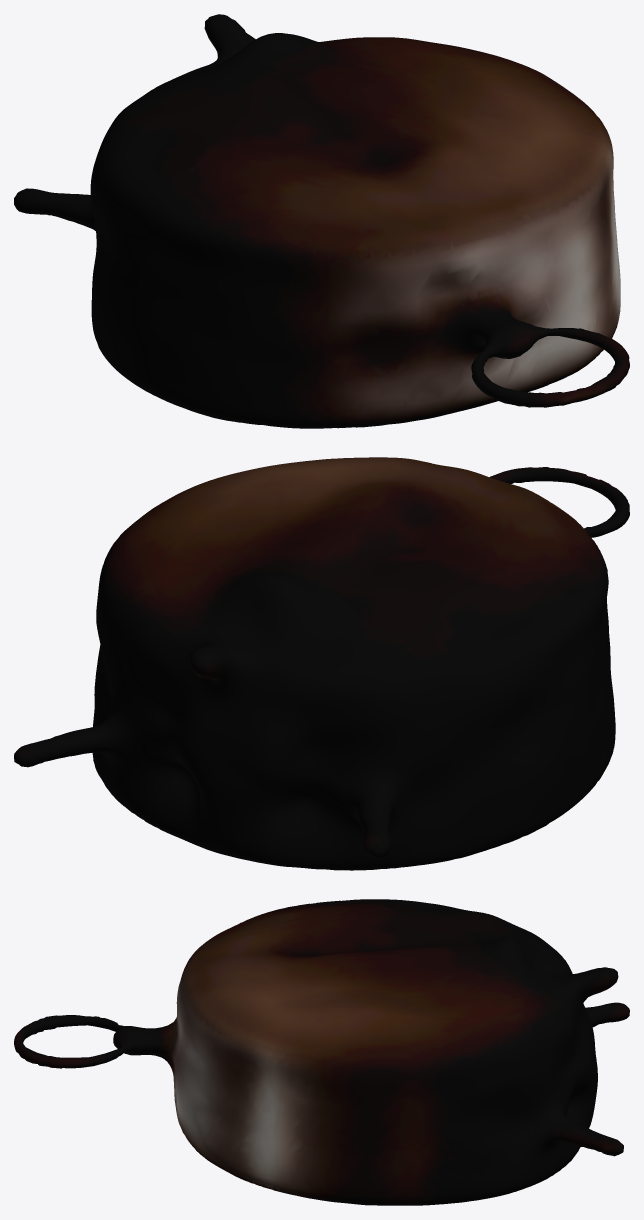
Rendered from alarm.glb.
3 views of the same model, one above another, from view 1: azimuth 30°, elevation 25°; view 2: azimuth 150°, elevation 25°; view 3: azimuth 270°, elevation 25° (orthographic). The views are drawn at different scales.
Size of the model in its own units: 0.6638 by 0.3504 by 0.9967.
